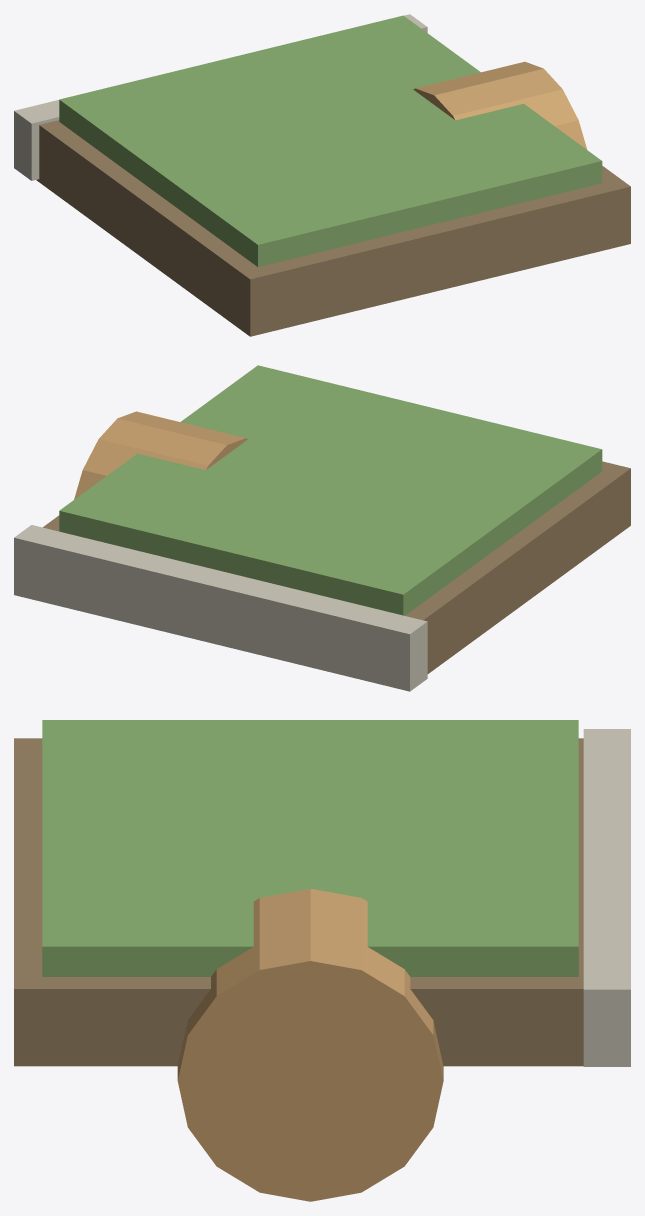
The model's file is 20_TrongLenh.glb.
3 views of the same model, one above another, from view 1: azimuth 30°, elevation 25°; view 2: azimuth 150°, elevation 25°; view 3: azimuth 270°, elevation 25° (orthographic). The views are drawn at different scales.
Parts seen in each view (by area): view 1: grass, soil, drum, border; view 2: grass, border, soil, drum; view 3: grass, drum, soil, border.
Boxes of the visible parts, x1,y1,x2,y2 form: grass: (59,15,602,266); soil: (36,120,630,336); drum: (413,61,587,149); border: (14,14,427,180); grass: (59,365,602,615); border: (14,525,427,691); soil: (42,461,630,673); drum: (74,411,247,499); grass: (42,720,578,976); drum: (177,888,443,1201); soil: (14,738,583,1066); border: (583,729,630,1066).
Size of the model in its own units: 1.35 by 0.56 by 1.3.
